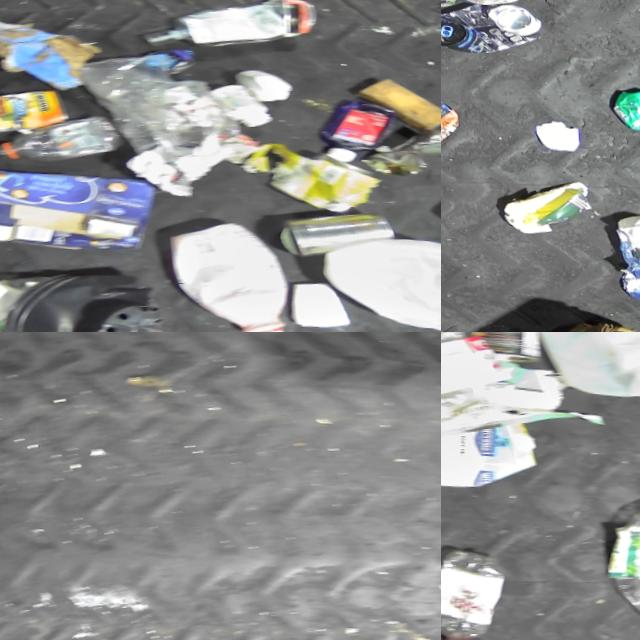can: (268, 195, 402, 256), (441, 0, 544, 53), (0, 74, 76, 135), (472, 332, 542, 359), (611, 75, 640, 128), (441, 86, 460, 150)
milk_jug: (315, 212, 441, 332), (534, 332, 640, 398)
plastic_bottle: (0, 106, 125, 171), (441, 537, 511, 640), (602, 487, 640, 633)
